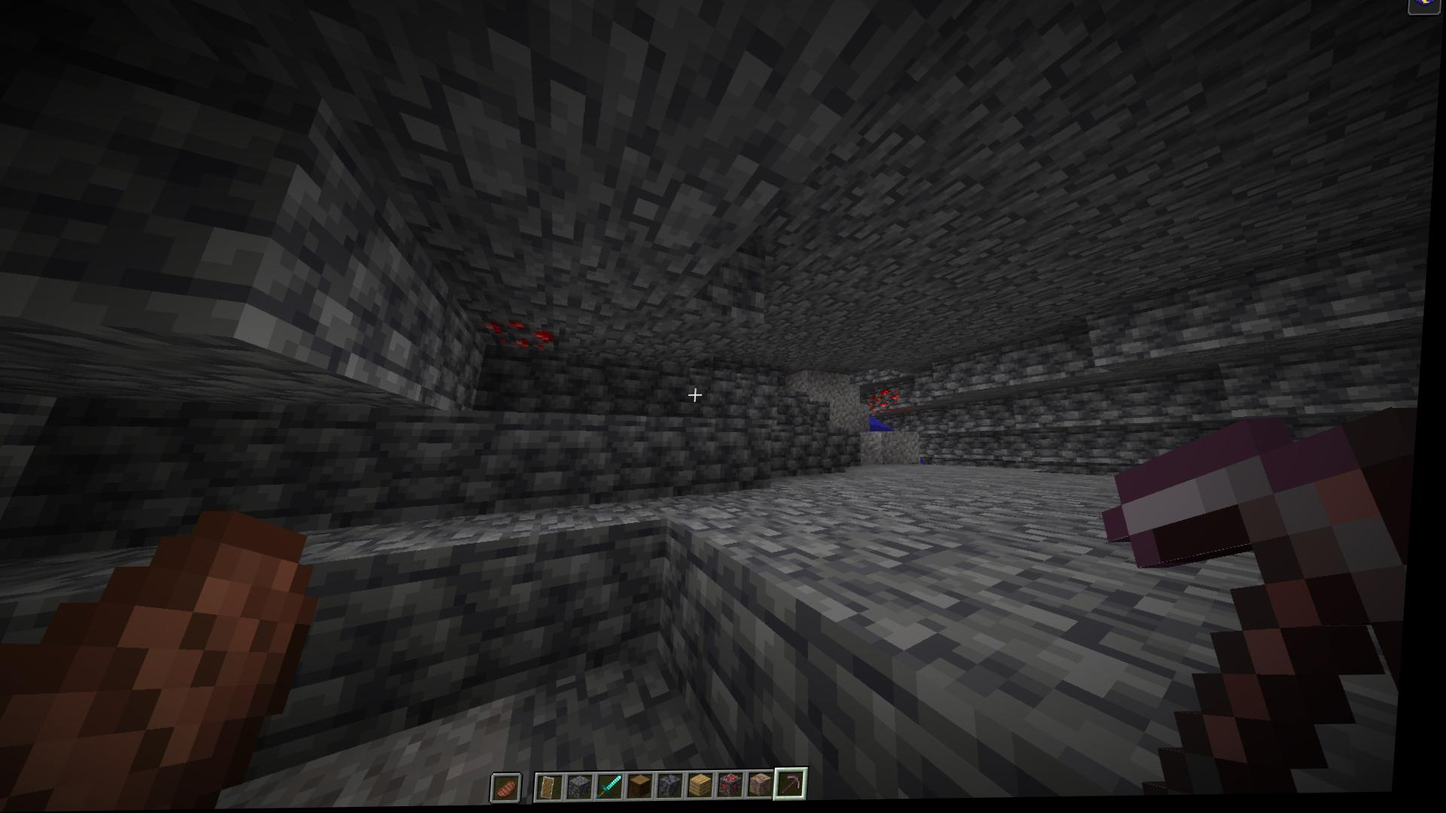redstone ore: (476, 315, 563, 361), (880, 385, 909, 414)
